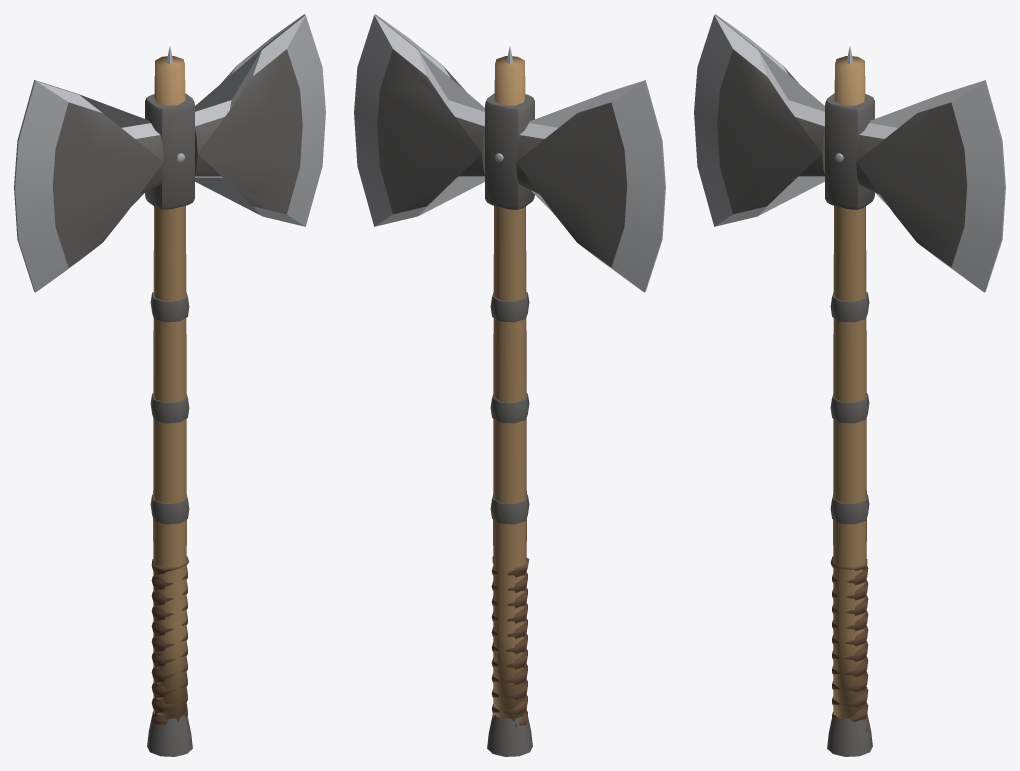
The model's file is dwarven-double-waraxe.glb.
3 views of the same model, side by side, from view 1: azimuth 30°, elevation 25°; view 2: azimuth 150°, elevation 25°; view 3: azimuth 330°, elevation 25° (orthographic).
Parts seen in each view (by area): view 1: dwarven-double-waraxe; view 2: dwarven-double-waraxe; view 3: dwarven-double-waraxe.
Part boxes in pixels (<box>): dwarven-double-waraxe: <box>14,14,325,756</box>; dwarven-double-waraxe: <box>354,14,665,756</box>; dwarven-double-waraxe: <box>694,14,1005,756</box>.
Bounding box in the file's own units: 0.9664 × 2.09 × 0.1318.
